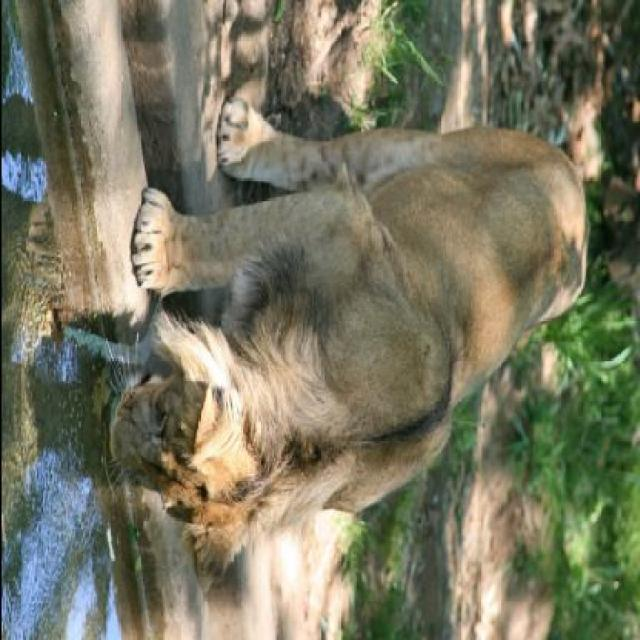Lion: (57, 52, 603, 586)
